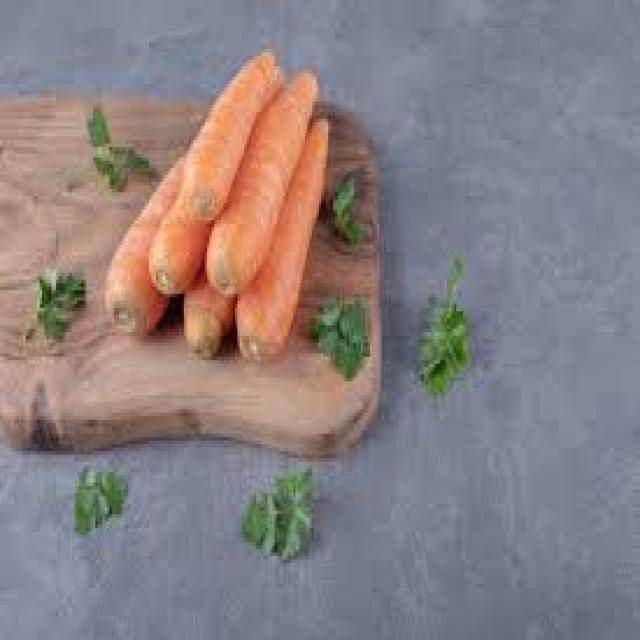Fresh_Carrot: (114, 31, 354, 346)
